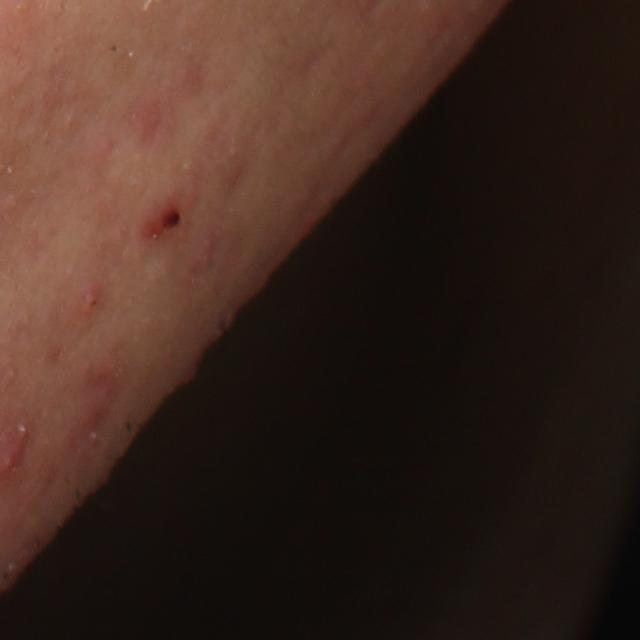papule: (141, 200, 187, 236), (77, 280, 106, 314)
